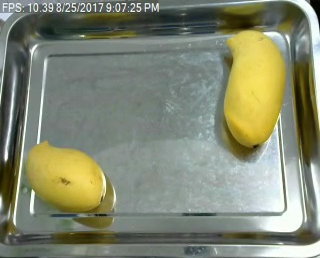Mango: (217, 26, 291, 150), (24, 138, 111, 217)
